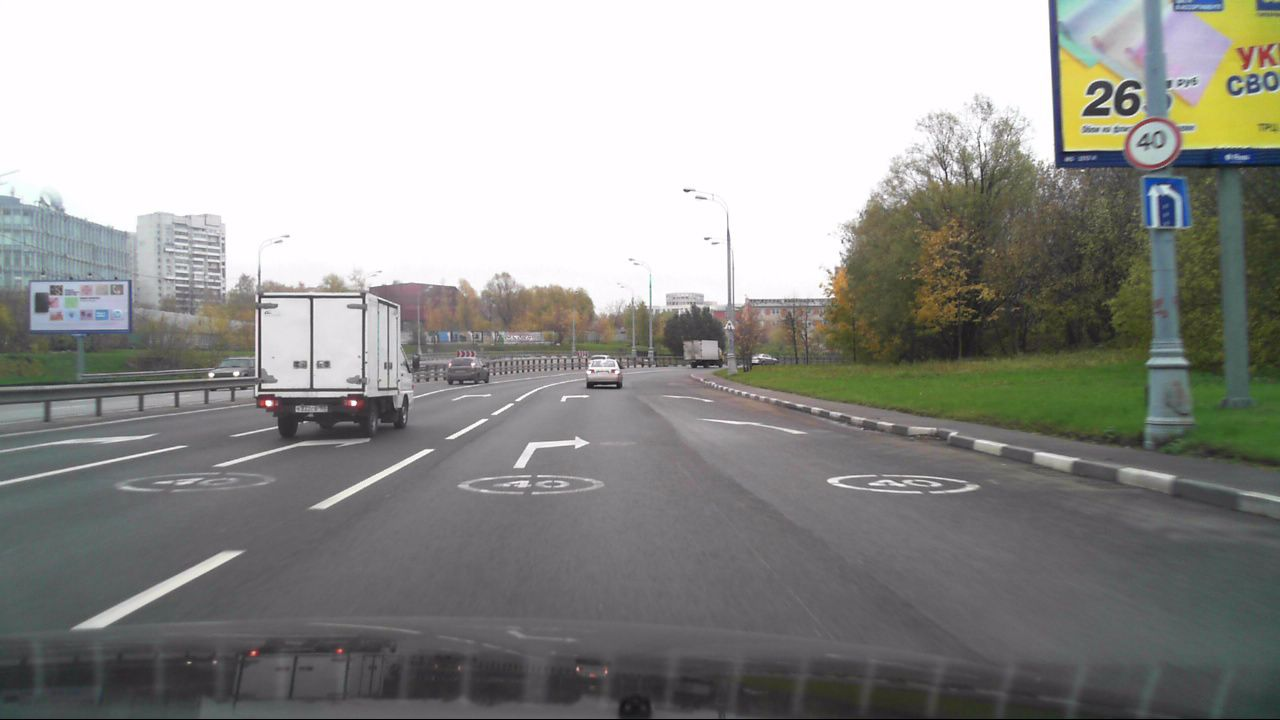speed_warning_40: (1124, 117, 1182, 169)
